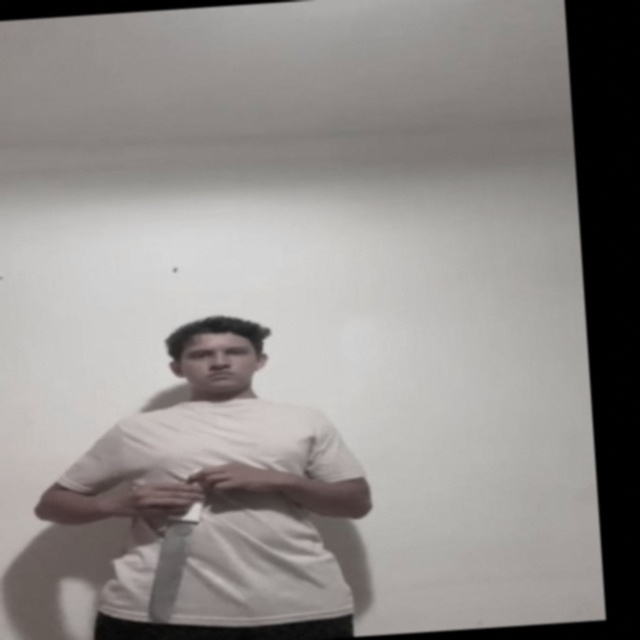Sharp-Object: (143, 519, 199, 622)
